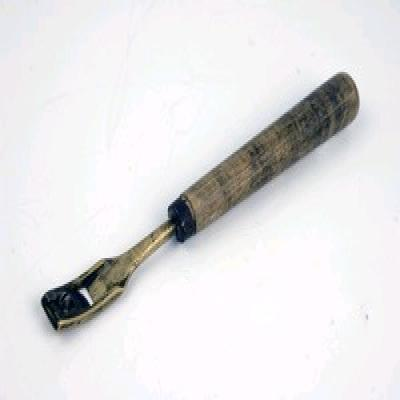technique: (41, 72, 361, 332)
